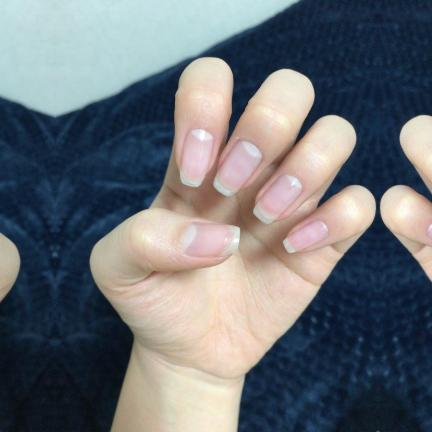Nail: (213, 141, 262, 197), (253, 175, 302, 224), (181, 223, 240, 256), (180, 129, 213, 187), (283, 220, 328, 253), (428, 223, 432, 239)
